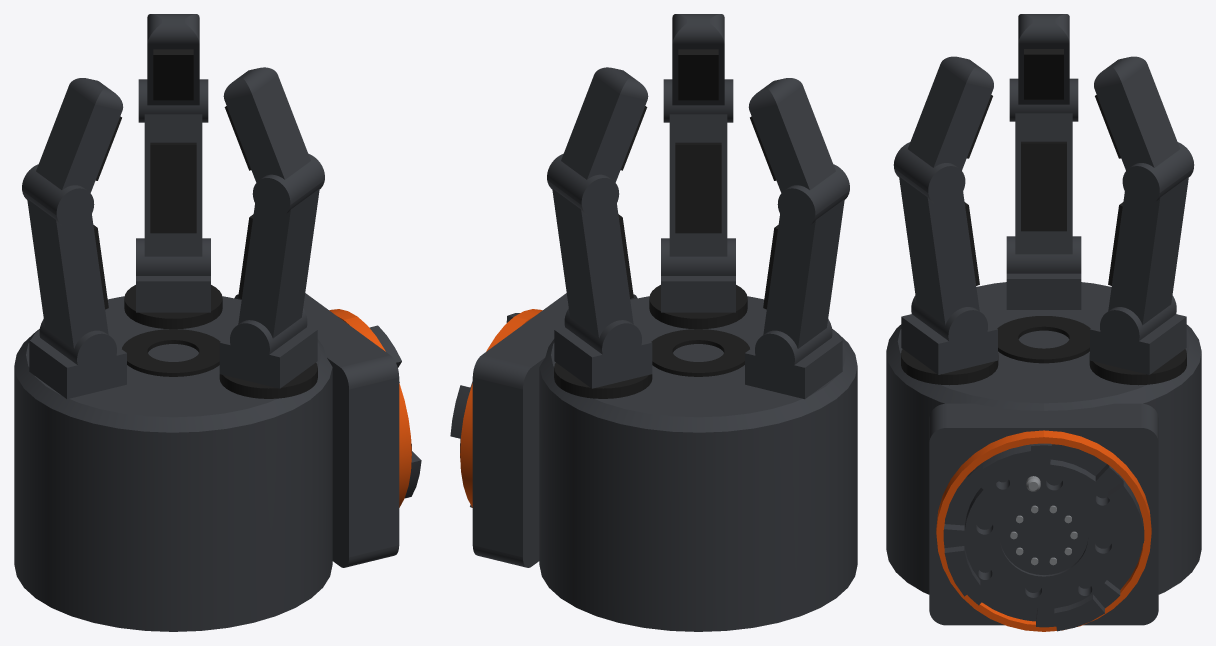
File: module_hand.glb
3 renders of one model, left to right at view 1: azimuth 30°, elevation 25°; view 2: azimuth 150°, elevation 25°; view 3: azimuth 270°, elevation 25°, orthographic.
Parts seen in each view (by area): view 1: hand_palm, hand_finger_c, hand_finger_a, hand_finger_b, hand_finger_b_pads, hand_drive_ring, hand_finger_b_turntable, hand_port_aux_ring, hand_finger_c_turntable, hand_port_aux_flange, hand_finger_c_pads, hand_finger_a_pads; view 2: hand_palm, hand_finger_b, hand_finger_a, hand_finger_c, hand_finger_c_pads, hand_drive_ring, hand_finger_c_turntable, hand_port_aux_ring, hand_finger_b_turntable, hand_port_aux_flange, hand_finger_b_pads, hand_finger_a_pads; view 3: hand_palm, hand_port_aux_flange, hand_finger_b, hand_finger_c, hand_finger_a, hand_finger_a_pads, hand_port_aux_ring, hand_drive_ring, hand_finger_b_turntable, hand_finger_c_turntable, hand_finger_b_pads, hand_finger_c_pads (+1 smaller).
Boxes of the visible parts, <box> form: hand_palm: <box>14,293,399,631</box>; hand_finger_c: <box>219,67,324,388</box>; hand_finger_a: <box>22,78,126,399</box>; hand_finger_b: <box>136,14,210,312</box>; hand_finger_b_pads: <box>150,49,196,233</box>; hand_drive_ring: <box>122,329,220,376</box>; hand_finger_b_turntable: <box>124,285,222,329</box>; hand_port_aux_ring: <box>329,309,411,507</box>; hand_finger_c_turntable: <box>219,362,317,398</box>; hand_port_aux_flange: <box>369,325,421,498</box>; hand_finger_c_pads: <box>224,106,253,298</box>; hand_finger_a_pads: <box>93,116,121,309</box>; hand_palm: <box>472,293,857,631</box>; hand_finger_b: <box>547,67,652,388</box>; hand_finger_a: <box>745,78,849,399</box>; hand_finger_c: <box>661,14,735,312</box>; hand_finger_c_pads: <box>675,49,721,233</box>; hand_drive_ring: <box>651,329,749,376</box>; hand_finger_c_turntable: <box>649,285,747,329</box>; hand_port_aux_ring: <box>460,309,542,507</box>; hand_finger_b_turntable: <box>554,362,652,398</box>; hand_port_aux_flange: <box>450,313,519,507</box>; hand_finger_b_pads: <box>618,106,647,298</box>; hand_finger_a_pads: <box>750,116,778,309</box>; hand_palm: <box>886,282,1201,625</box>; hand_port_aux_flange: <box>943,443,1144,631</box>; hand_finger_b: <box>1090,56,1194,374</box>; hand_finger_c: <box>893,56,997,374</box>; hand_finger_a: <box>1006,14,1081,309</box>; hand_finger_a_pads: <box>1021,49,1066,231</box>; hand_port_aux_ring: <box>936,430,1151,631</box>; hand_drive_ring: <box>997,316,1090,363</box>; hand_finger_b_turntable: <box>1089,349,1186,385</box>; hand_finger_c_turntable: <box>901,349,998,385</box>; hand_finger_b_pads: <box>1095,95,1123,285</box>; hand_finger_c_pads: <box>964,95,992,285</box>.
Bounding box in the file's own units: 0.134 × 0.2026 × 0.11.
